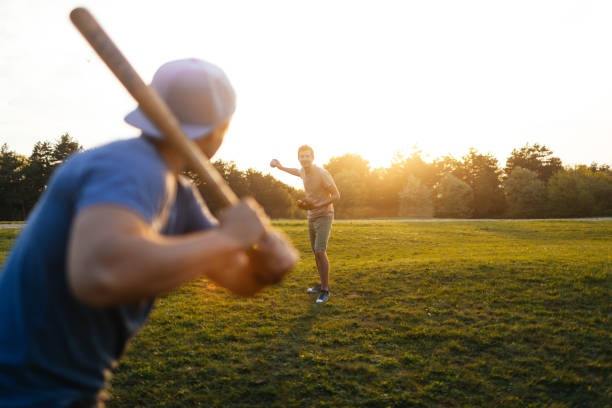bita: (71, 3, 272, 251)
